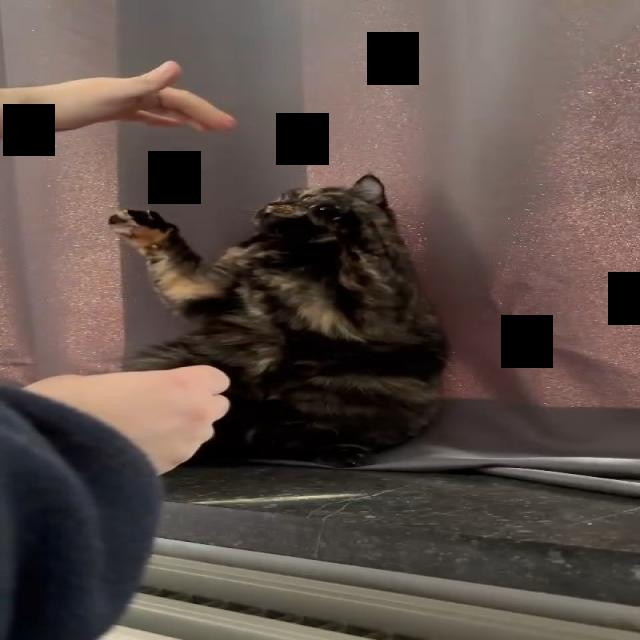authorized: (107, 172, 449, 469)
